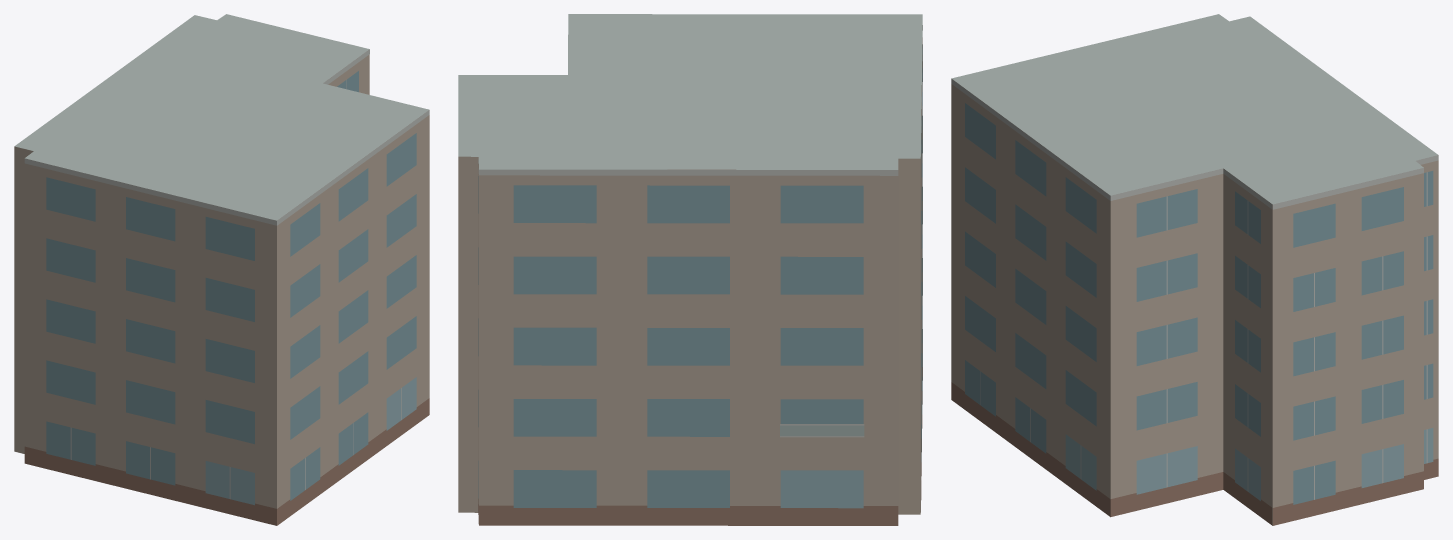
File: survey-upis-32721926.glb
3 views of the same model, side by side, from view 1: azimuth 30°, elevation 25°; view 2: azimuth 150°, elevation 25°; view 3: azimuth 270°, elevation 25° (orthographic). The views are drawn at different scales.
Visible parts, largest first — view 1: survey-upis-32721926.tmp; view 2: survey-upis-32721926.tmp; view 3: survey-upis-32721926.tmp.
Part boxes in pixels (<box>): survey-upis-32721926.tmp: <box>14,14,429,525</box>; survey-upis-32721926.tmp: <box>458,14,922,525</box>; survey-upis-32721926.tmp: <box>951,14,1438,525</box>.
Bounding box in the file's own units: 18.77 × 14.75 × 20.28.
